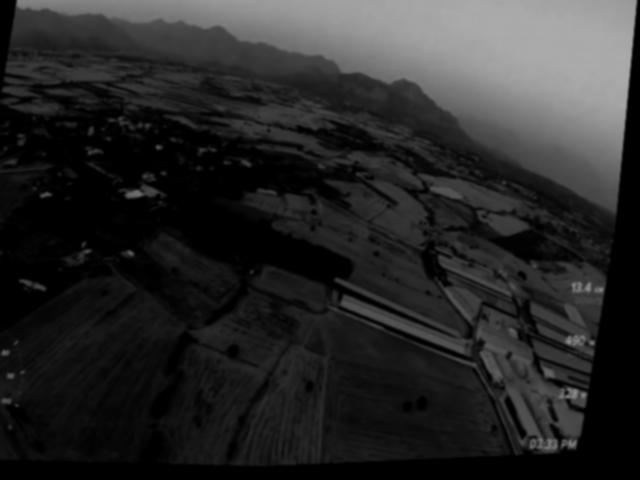hedef: (9, 268, 65, 309)
